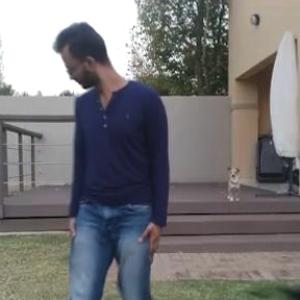follow: (136, 0, 299, 299), (50, 7, 166, 299)
